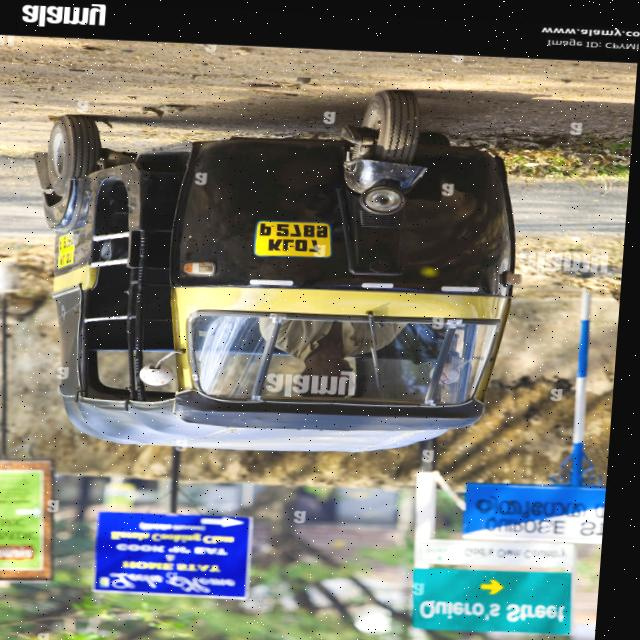plate: (253, 208, 337, 262)
